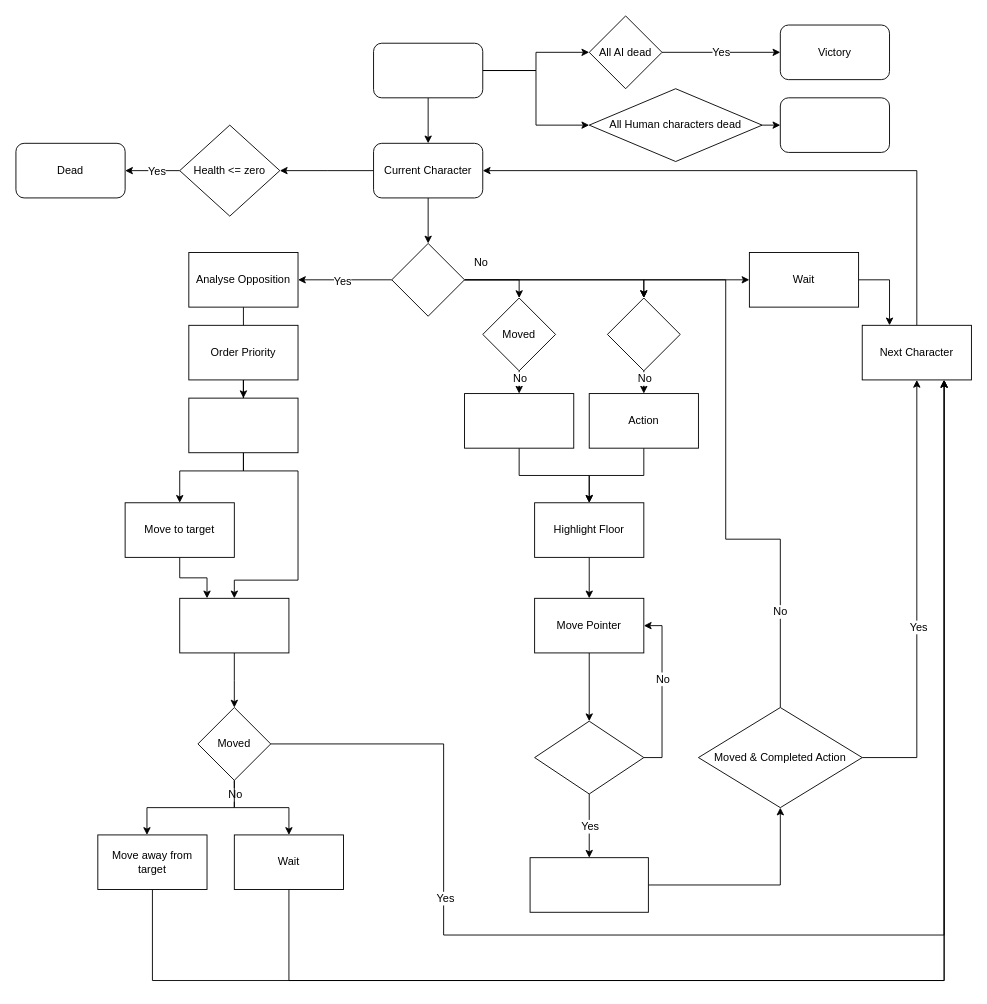
Image size: 987x1004. Some labels were removed from this diagram. The centre of each missing label's shape, as x and y in pixels:
"Attack Target" belongs at point 234,625.
"Completed Action" belongs at point 643,334.
"Confirm Action/Move" belongs at point 588,884.
"Defeat" belongs at point 834,124.
"Is AI" belongs at point 428,279.
"Main Game" belongs at point 428,70.
"Move" belongs at point 519,420.
"Pick Target" belongs at point 243,425.
"Position active" belongs at point 589,757.
